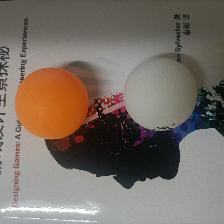WhiteBall: (124, 58, 197, 130)
YellowBall: (14, 67, 88, 139)
